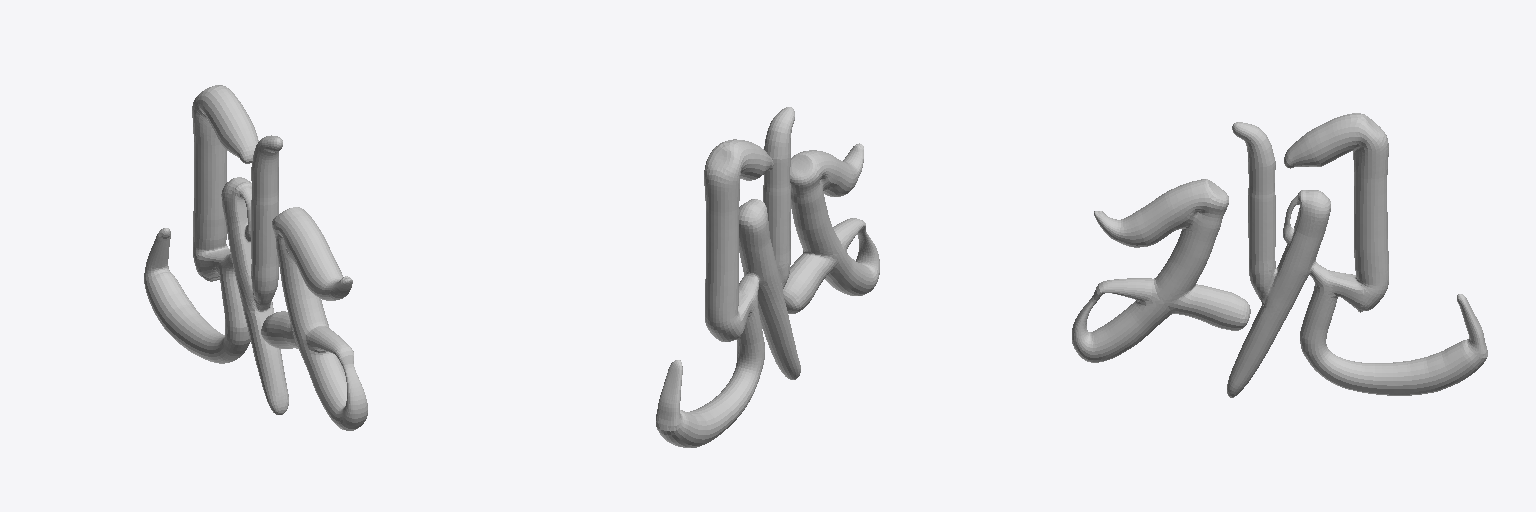
The picture shows the model from 3 angles: view 1: azimuth 30°, elevation 25°; view 2: azimuth 150°, elevation 25°; view 3: azimuth 270°, elevation 25°; orthographic projection.
Visible parts, largest first — view 1: tripo_node_f8659e40-b410-49c4-ac8a-6c910ecab69a; view 2: tripo_node_f8659e40-b410-49c4-ac8a-6c910ecab69a; view 3: tripo_node_f8659e40-b410-49c4-ac8a-6c910ecab69a.
Boxes of the visible parts, x1,y1,x2,y2 form: tripo_node_f8659e40-b410-49c4-ac8a-6c910ecab69a: [144, 85, 367, 430]; tripo_node_f8659e40-b410-49c4-ac8a-6c910ecab69a: [656, 107, 879, 447]; tripo_node_f8659e40-b410-49c4-ac8a-6c910ecab69a: [1072, 113, 1487, 397].
Bounding box in the file's own units: 0.0922 × 0.7481 × 0.9999.